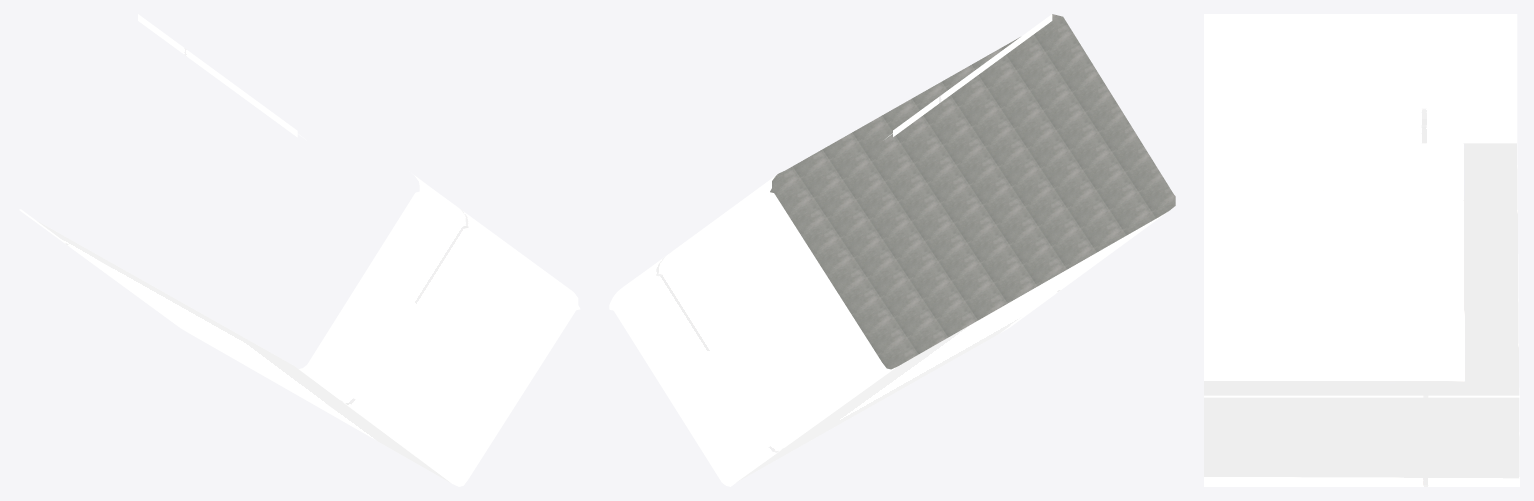
The picture shows the model from 3 angles, left to right: view 1: azimuth 30°, elevation 25°; view 2: azimuth 150°, elevation 25°; view 3: azimuth 270°, elevation 25°; orthographic projection.
Visible parts, largest first — view 1: BuildingMaster_1981193673824463928200000000_0; view 2: BuildingMaster_1981193673824463928200000000_1, BuildingMaster_1981193673824463928200000000_0; view 3: BuildingMaster_1981193673824463928200000000_0.
Part boxes in pixels (bbox=[...]): BuildingMaster_1981193673824463928200000000_0: bbox=[19, 14, 580, 486]; BuildingMaster_1981193673824463928200000000_1: bbox=[770, 14, 1175, 369]; BuildingMaster_1981193673824463928200000000_0: bbox=[609, 14, 1166, 486]; BuildingMaster_1981193673824463928200000000_0: bbox=[1204, 14, 1519, 486].
Bounding box in the file's own units: 46 × 42.75 × 31.5.
